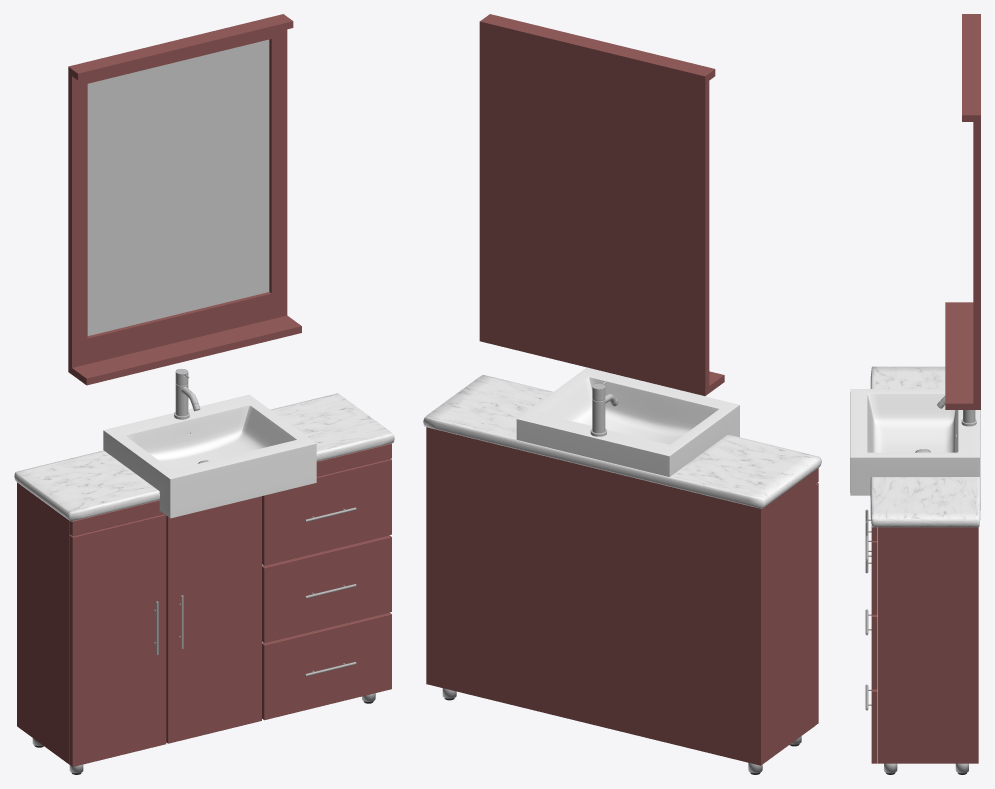
The model's file is sh_scopia_bathroom_vanity.glb.
3 views of the same model, side by side, from view 1: azimuth 30°, elevation 25°; view 2: azimuth 150°, elevation 25°; view 3: azimuth 270°, elevation 25° (orthographic). The views are drawn at different scales.
Bounding box in the file's own units: 1.07 × 2.08 × 0.385.
Materials: 10 (1 with a texture image).
